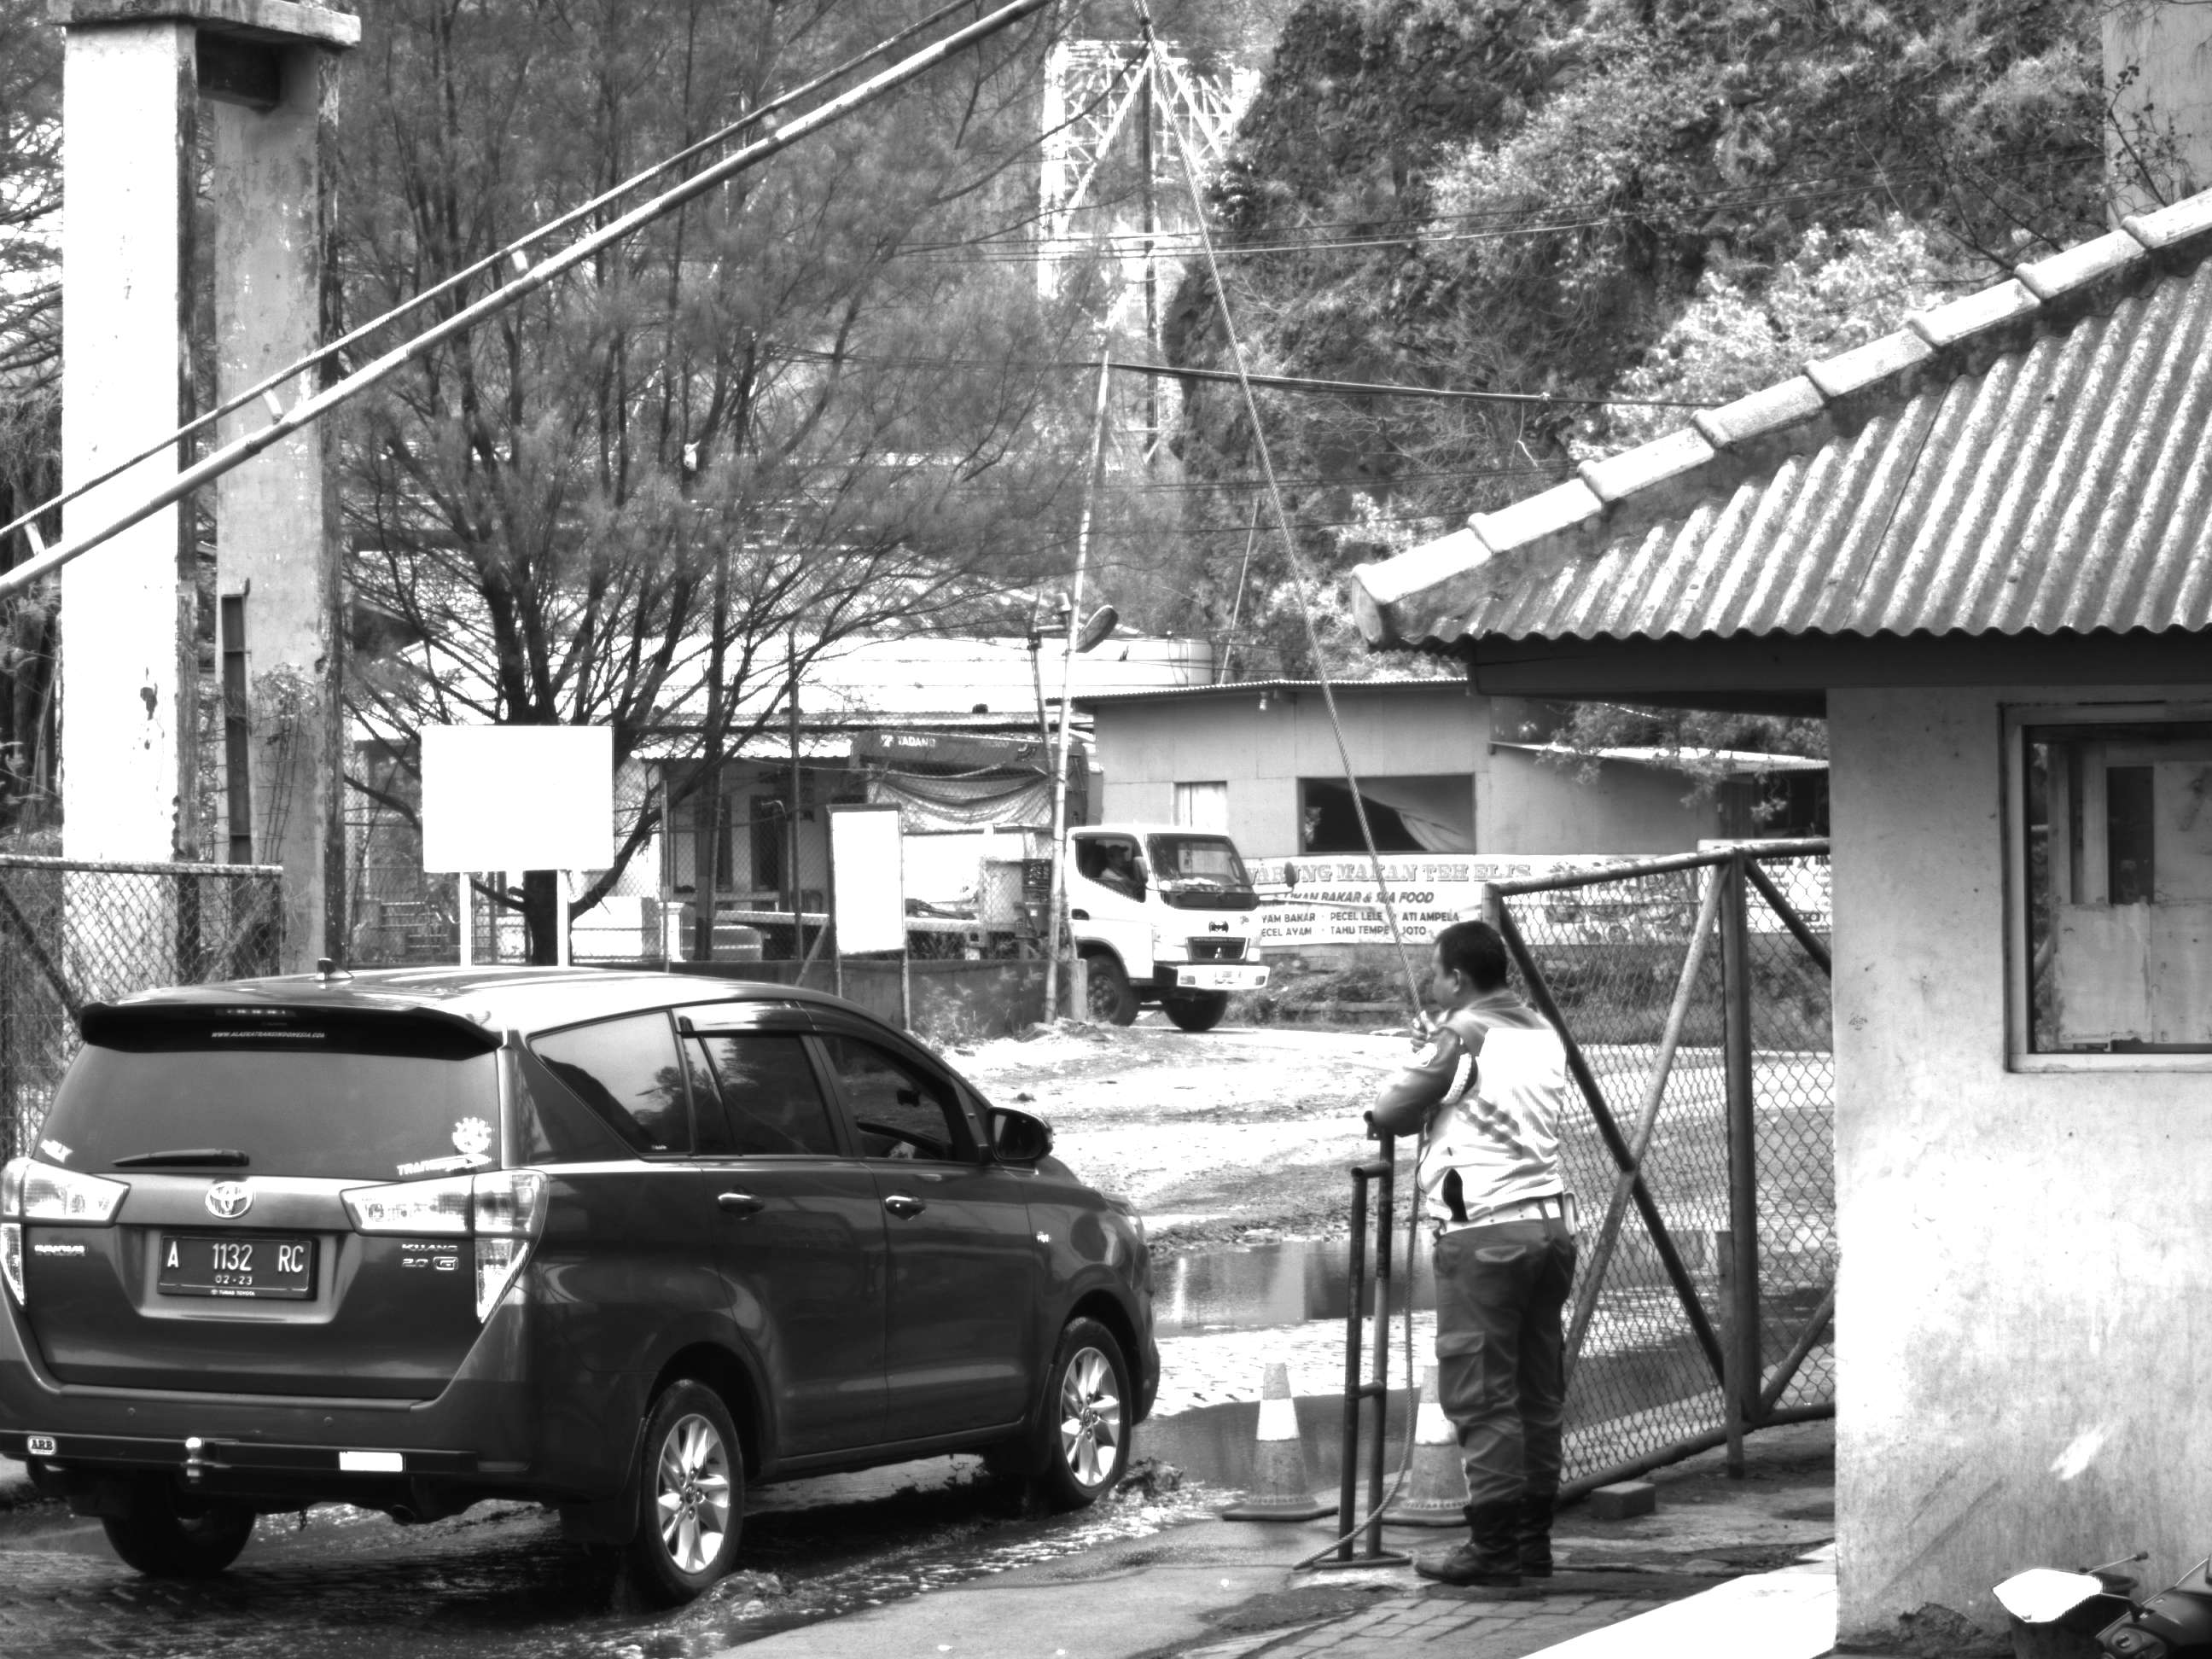day_small_rear: (4, 960, 772, 1592)
plate: (155, 1225, 323, 1301)
